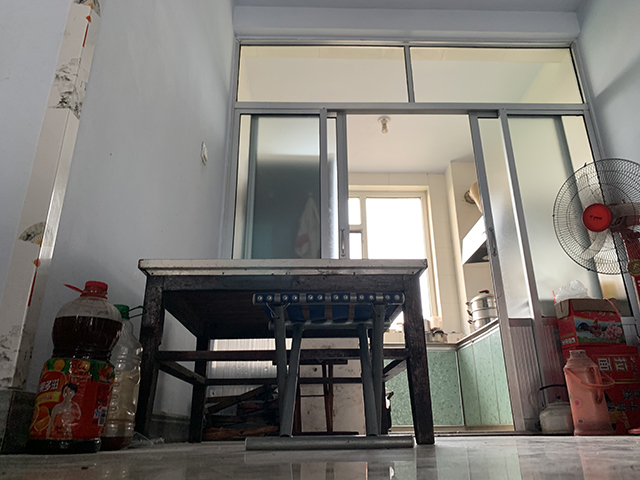cabinet: (384, 317, 515, 433)
stool: (242, 290, 415, 451), (270, 358, 360, 437)
table: (127, 256, 438, 448)
